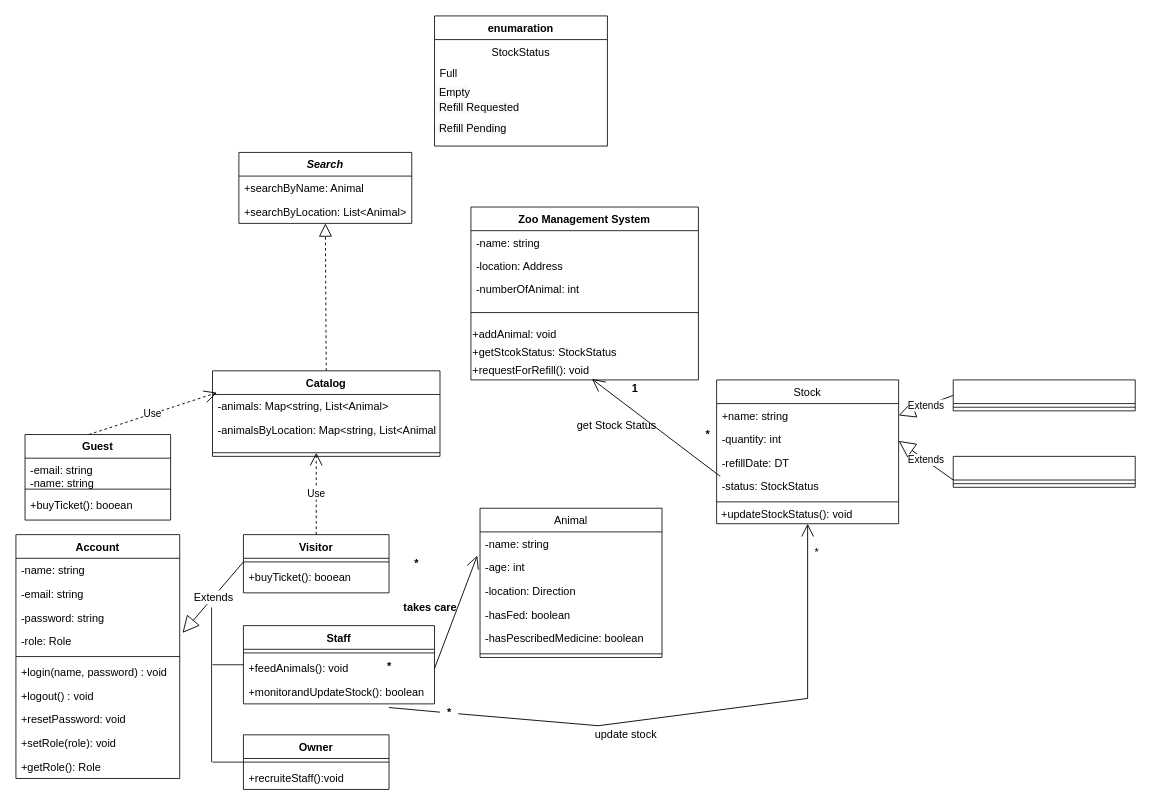
This 1151x808 diagram has some shape labels left out. The shapes that lost their labels are listed below. From the top down, each one's centre as x and y in pixels, then its label:
At [1043,395]: "Food Item".
At [1043,471]: "Medicine".
